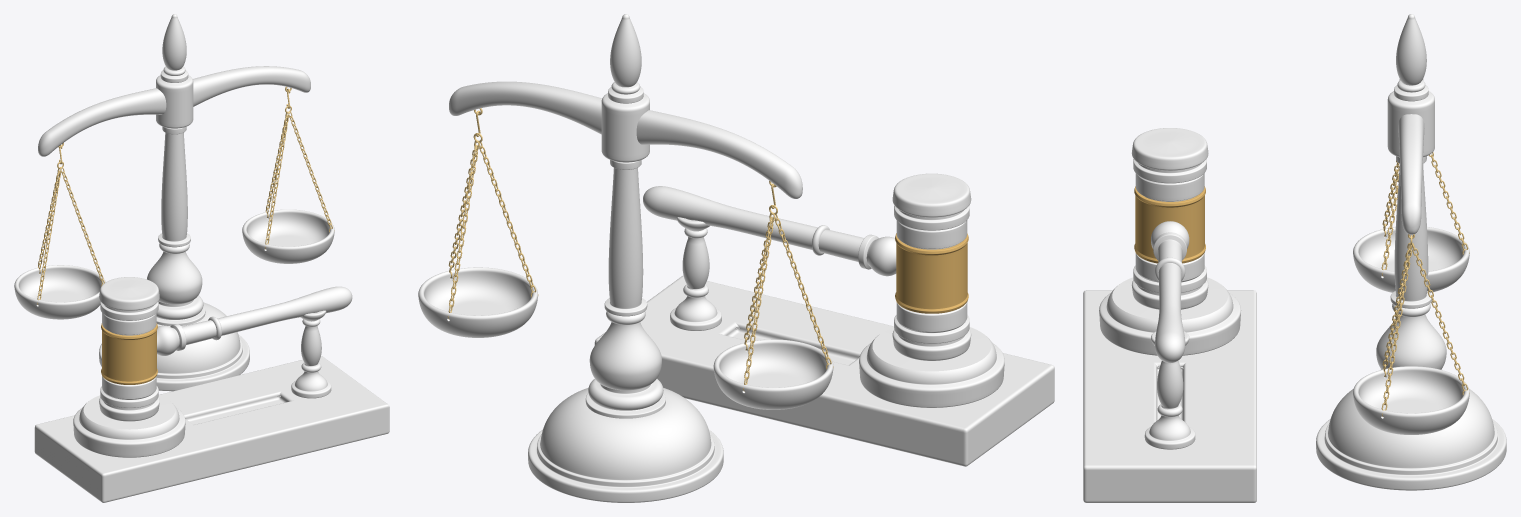
The model's file is justice_scale_gavel.glb.
The picture shows the model from 3 angles, left to right: view 1: azimuth 30°, elevation 25°; view 2: azimuth 150°, elevation 25°; view 3: azimuth 270°, elevation 25°; orthographic projection. The views are drawn at different scales.
Visible parts, largest first — view 1: Gavel_Stand, Scale_Column, Scale_Beam, Gavel_Head, Gavel_Sound_Block, Gavel_Handle, Scale_Pan_R, Scale_Pan_L, Gavel_Brass_Band, Gavel_Handle_Rest, Scale_Gold_Hardware_R, Scale_Gold_Hardware_L; view 2: Scale_Column, Gavel_Stand, Scale_Beam, Gavel_Head, Gavel_Sound_Block, Gavel_Handle, Scale_Pan_L, Scale_Pan_R, Gavel_Brass_Band, Gavel_Handle_Rest, Scale_Gold_Hardware_R, Scale_Gold_Hardware_L; view 3: Gavel_Stand, Scale_Column, Gavel_Head, Scale_Pan_R, Gavel_Sound_Block, Scale_Pan_L, Gavel_Handle, Gavel_Brass_Band, Gavel_Handle_Rest, Scale_Beam, Scale_Gold_Hardware_R, Scale_Gold_Hardware_L.
Part boxes in pixels (x1,y1,x2,y2): Gavel_Stand: [34, 355, 389, 502]; Scale_Column: [99, 14, 249, 391]; Scale_Beam: [38, 66, 310, 156]; Gavel_Head: [99, 277, 159, 421]; Gavel_Sound_Block: [73, 395, 185, 457]; Gavel_Handle: [157, 286, 352, 355]; Scale_Pan_R: [242, 209, 334, 263]; Scale_Pan_L: [14, 265, 105, 319]; Gavel_Brass_Band: [101, 323, 157, 384]; Gavel_Handle_Rest: [291, 310, 331, 398]; Scale_Gold_Hardware_R: [265, 86, 334, 249]; Scale_Gold_Hardware_L: [37, 143, 104, 304]; Scale_Column: [528, 14, 723, 502]; Gavel_Stand: [594, 275, 1054, 466]; Scale_Beam: [449, 81, 802, 198]; Gavel_Head: [892, 173, 971, 360]; Gavel_Sound_Block: [859, 327, 1004, 407]; Gavel_Handle: [643, 186, 896, 276]; Scale_Pan_L: [713, 339, 833, 409]; Scale_Pan_R: [418, 267, 537, 337]; Gavel_Brass_Band: [895, 233, 968, 313]; Gavel_Handle_Rest: [670, 217, 721, 330]; Scale_Gold_Hardware_R: [447, 108, 538, 319]; Scale_Gold_Hardware_L: [743, 181, 833, 391]; Gavel_Stand: [1083, 290, 1256, 502]; Scale_Column: [1316, 14, 1506, 490]; Gavel_Head: [1131, 128, 1208, 309]; Scale_Pan_R: [1353, 366, 1469, 434]; Gavel_Sound_Block: [1099, 277, 1241, 355]; Scale_Pan_L: [1353, 227, 1469, 292]; Gavel_Handle: [1151, 221, 1189, 363]; Gavel_Brass_Band: [1134, 186, 1205, 263]; Gavel_Handle_Rest: [1144, 331, 1195, 449]; Scale_Beam: [1398, 79, 1424, 234]; Scale_Gold_Hardware_R: [1381, 234, 1469, 416]; Scale_Gold_Hardware_L: [1381, 152, 1469, 276].
Bounding box in the file's own units: 0.2151 × 0.1997 × 0.1755.
